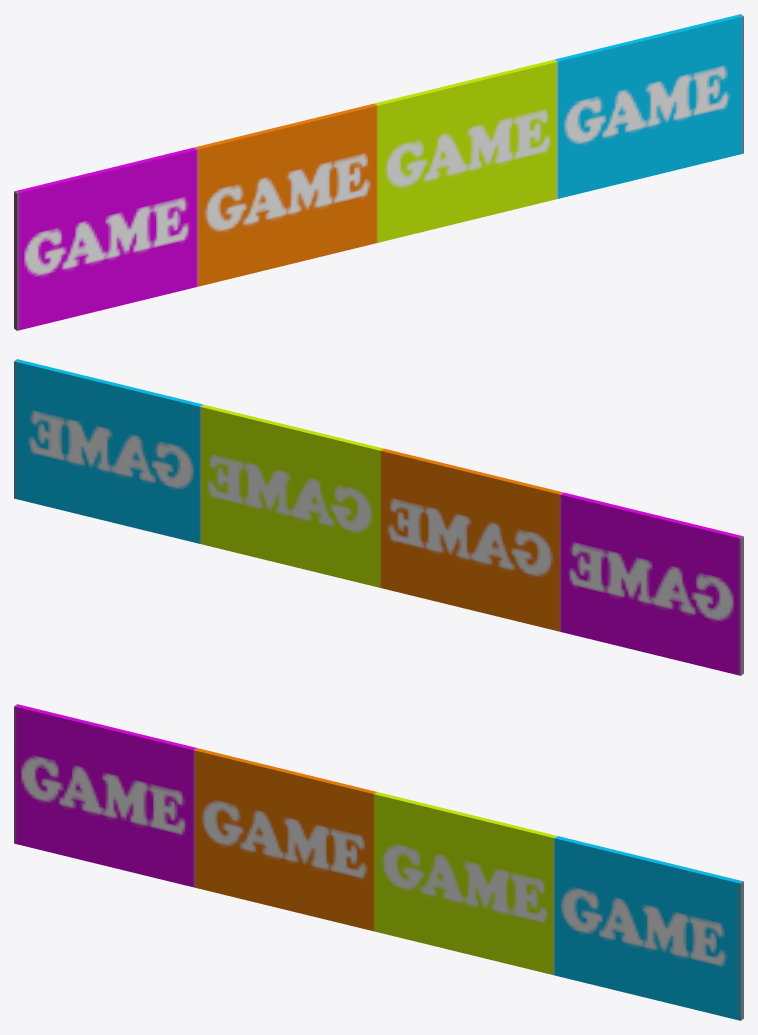
The model's file is Poster_Game.fbx.
The picture shows the model from 3 angles, top to bottom: view 1: azimuth 30°, elevation 25°; view 2: azimuth 150°, elevation 25°; view 3: azimuth 330°, elevation 25°; orthographic projection.
Parts seen in each view (by area): view 1: Poster_Game; view 2: Poster_Game; view 3: Poster_Game.
Boxes of the visible parts, x1,y1,x2,y2 form: Poster_Game: (14,14,743,330); Poster_Game: (14,359,743,675); Poster_Game: (14,704,743,1020).
Bounding box in the file's own units: 1.89 × 0.3404 × 0.0143.
